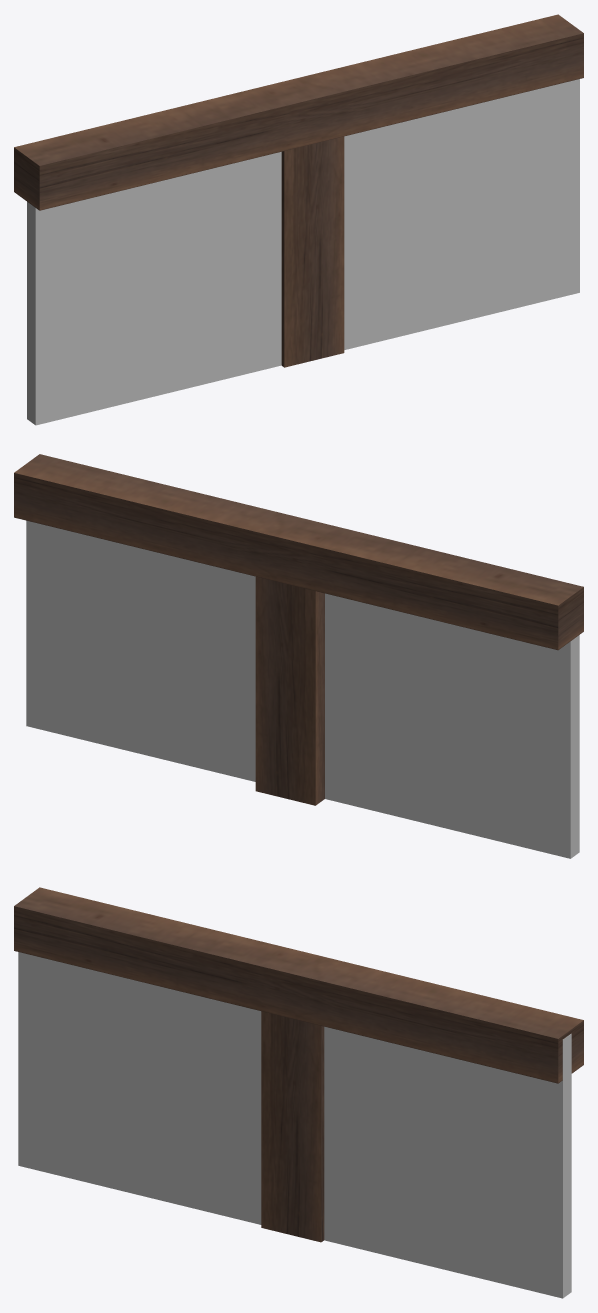
Rendered from jov_lowwall_1t03.fbx.
3 views of the same model, one above another, from view 1: azimuth 30°, elevation 25°; view 2: azimuth 150°, elevation 25°; view 3: azimuth 330°, elevation 25° (orthographic).
Parts seen in each view (by area): view 1: jov_lowwall_1t03; view 2: jov_lowwall_1t03; view 3: jov_lowwall_1t03.
Part boxes in pixels (x1,y1,x2,y2): jov_lowwall_1t03: (14, 14, 583, 425); jov_lowwall_1t03: (14, 454, 583, 858); jov_lowwall_1t03: (14, 887, 583, 1298).
Bounding box in the file's own units: 217 × 100 × 17.73.
